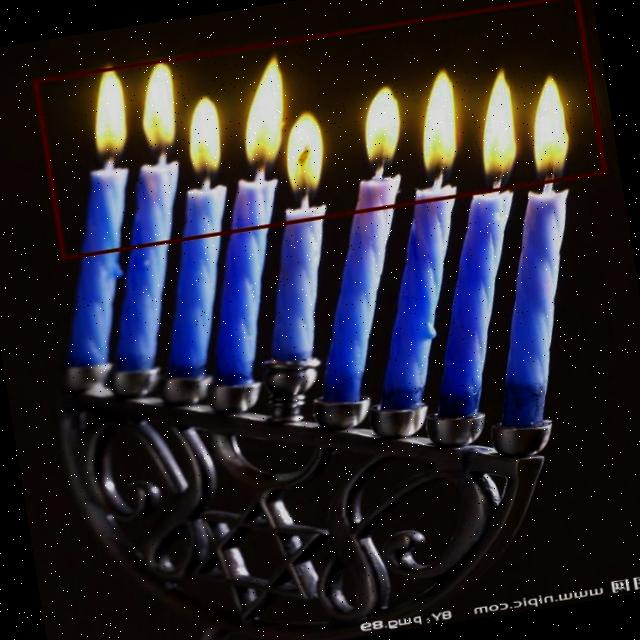fire: (34, 0, 607, 259)
